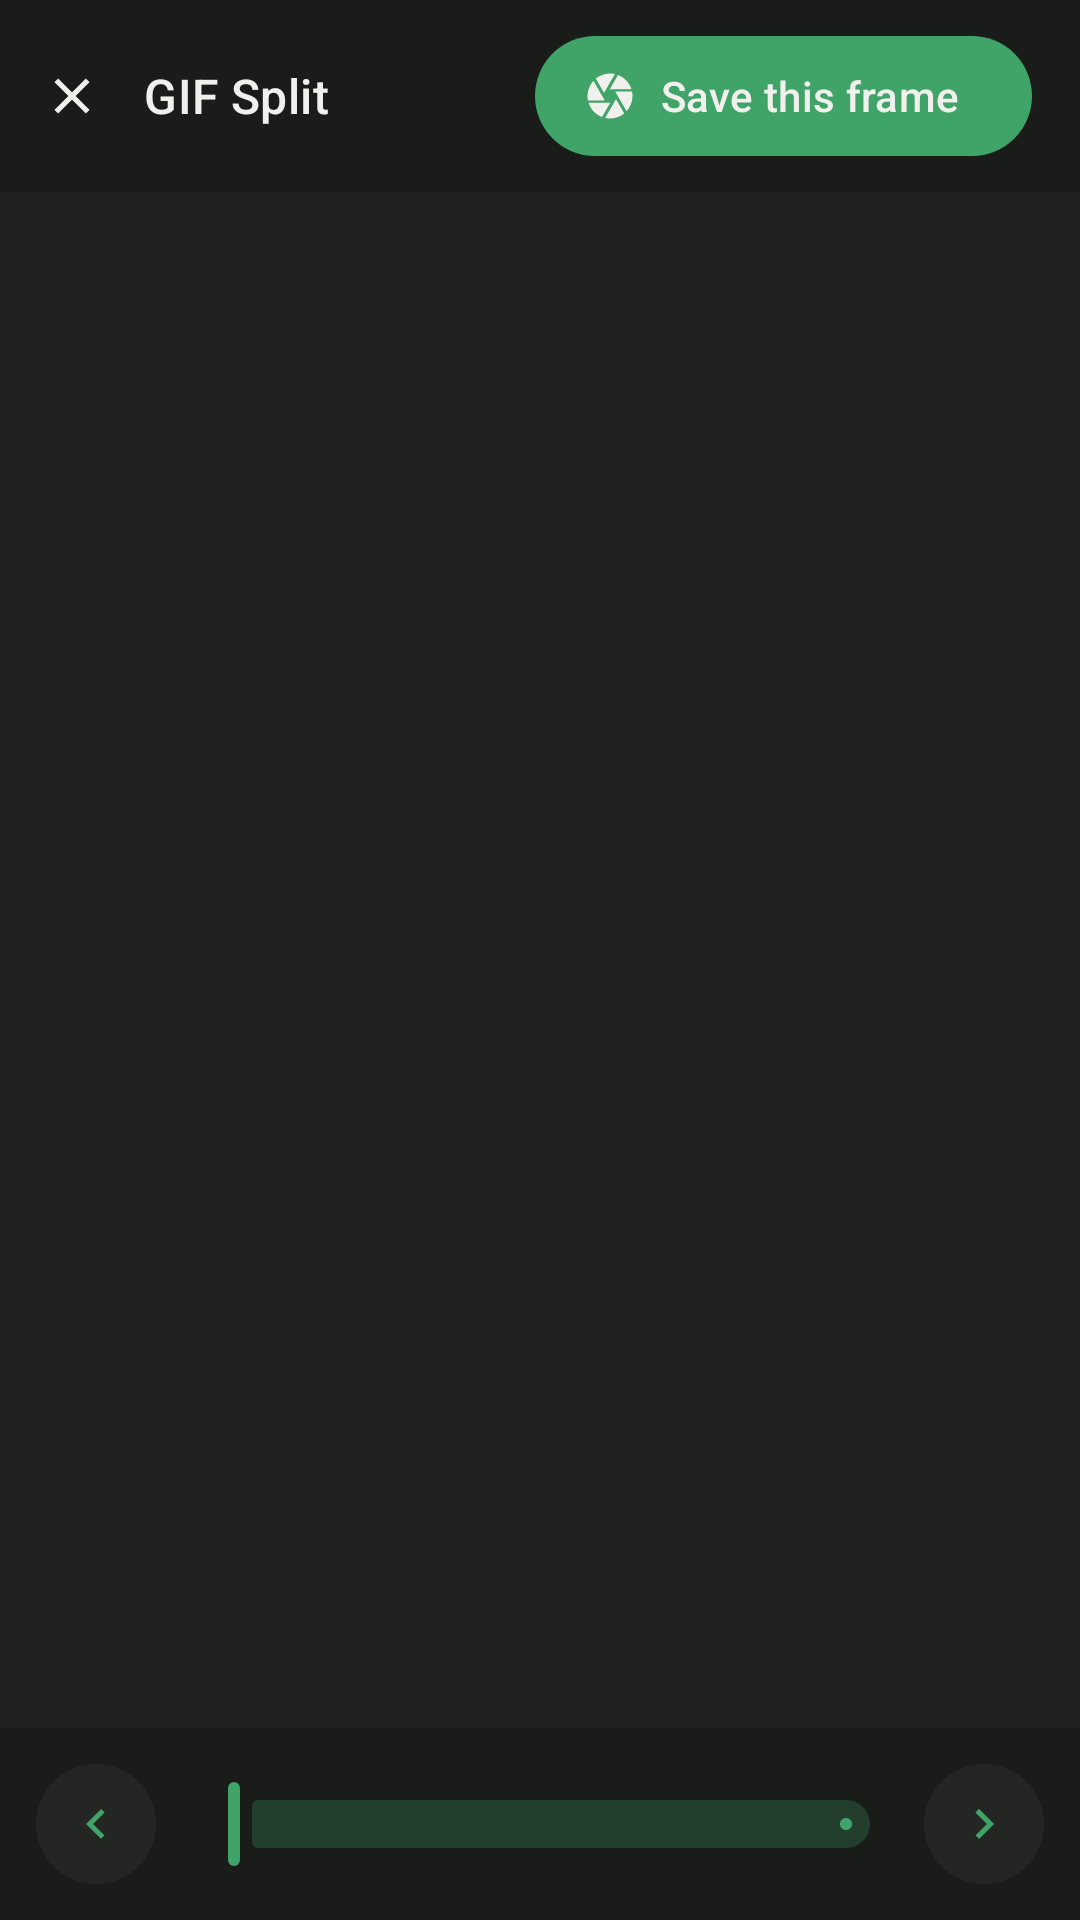

Icon click points for this 1080 × 1920 phone screenshot, format (x=x, y=y):
Close: (x=72, y=96)
Next frame: (x=984, y=1824)
Previous frame: (x=96, y=1824)
